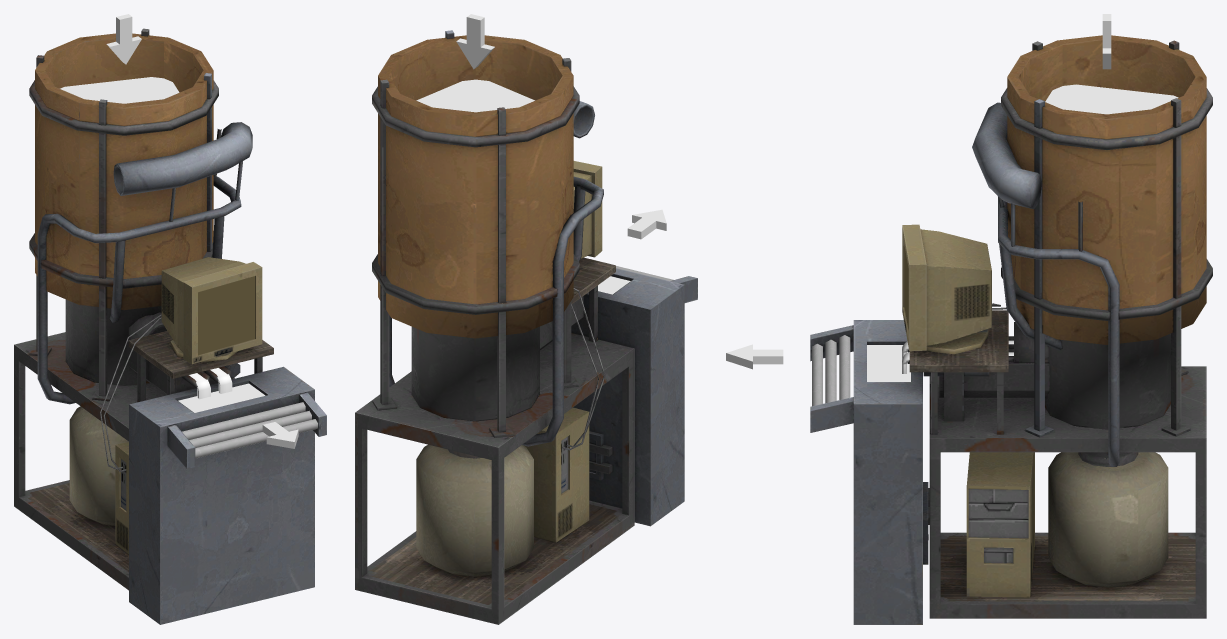
Rendered from blastfurnace.glb.
3 views of the same model, side by side, from view 1: azimuth 30°, elevation 25°; view 2: azimuth 150°, elevation 25°; view 3: azimuth 270°, elevation 25° (orthographic). The views are drawn at different scales.
Visible parts, largest first — view 1: blastfurnace, BlastFurnaceTrigger, Plane, ghostarrow (1), ghostarrow, blastfurnace_fountain; view 2: blastfurnace, BlastFurnaceTrigger, ghostarrow (1), ghostarrow; view 3: blastfurnace, BlastFurnaceTrigger, Plane, ghostarrow.
Boxes of the visible parts, box(x1,y1,x2,y2) form: blastfurnace: box(14, 28, 326, 624); BlastFurnaceTrigger: box(60, 77, 179, 103); Plane: box(178, 383, 265, 412); ghostarrow (1): box(106, 14, 141, 64); ghostarrow: box(262, 422, 298, 448); blastfurnace_fountain: box(189, 368, 232, 399); blastfurnace: box(355, 30, 697, 624); BlastFurnaceTrigger: box(416, 79, 534, 112); ghostarrow (1): box(456, 14, 494, 69); ghostarrow: box(627, 209, 666, 239); blastfurnace: box(810, 35, 1212, 624); BlastFurnaceTrigger: box(1045, 84, 1178, 114); Plane: box(867, 345, 910, 381); ghostarrow: box(726, 344, 783, 369).
Size of what is drawn, in the model's own units: 1.14 by 3.13 by 2.44.
6 materials, 3 textured.
